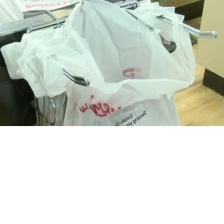plastic_bag: (1, 0, 196, 126)
